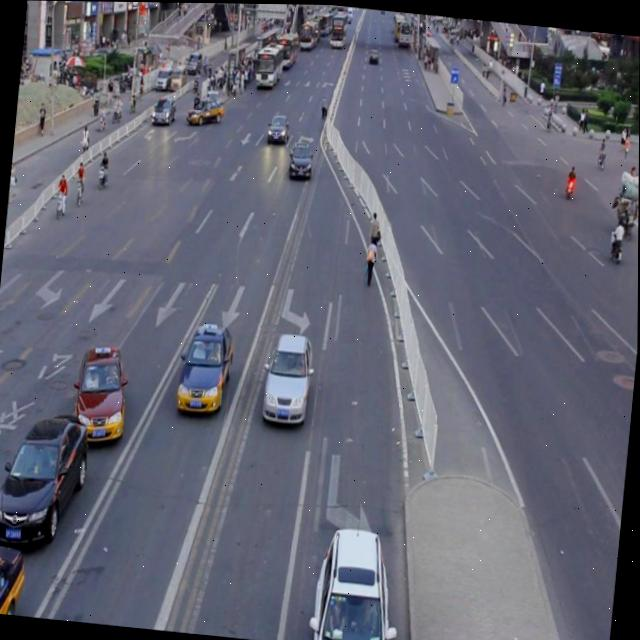car: (0, 402, 93, 549), (309, 518, 401, 640), (73, 340, 132, 446), (175, 318, 236, 416), (260, 328, 316, 425), (0, 538, 27, 615), (286, 139, 314, 181)
